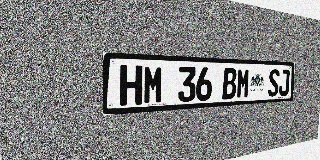3: (178, 67, 196, 102)
6: (196, 67, 213, 101)
B: (222, 68, 237, 100)
H: (120, 65, 143, 106)
J: (278, 69, 290, 96)
M: (143, 66, 164, 104), (236, 68, 250, 99)
S: (268, 69, 280, 97)
